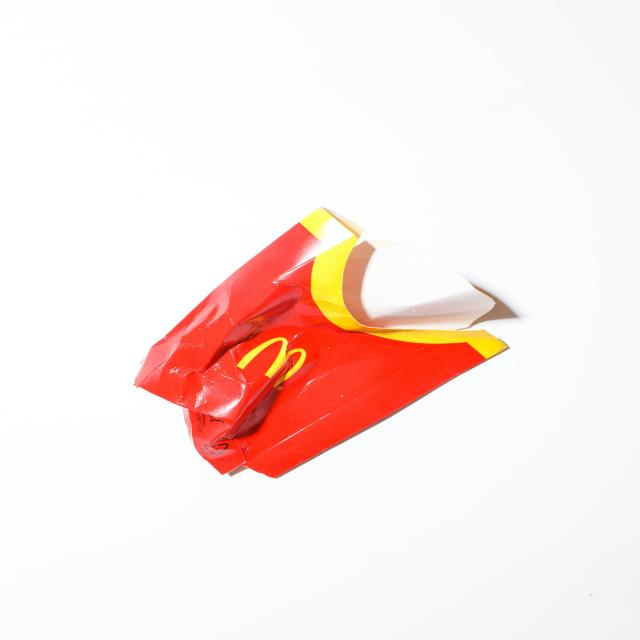cardboard: (200, 257, 446, 447)
